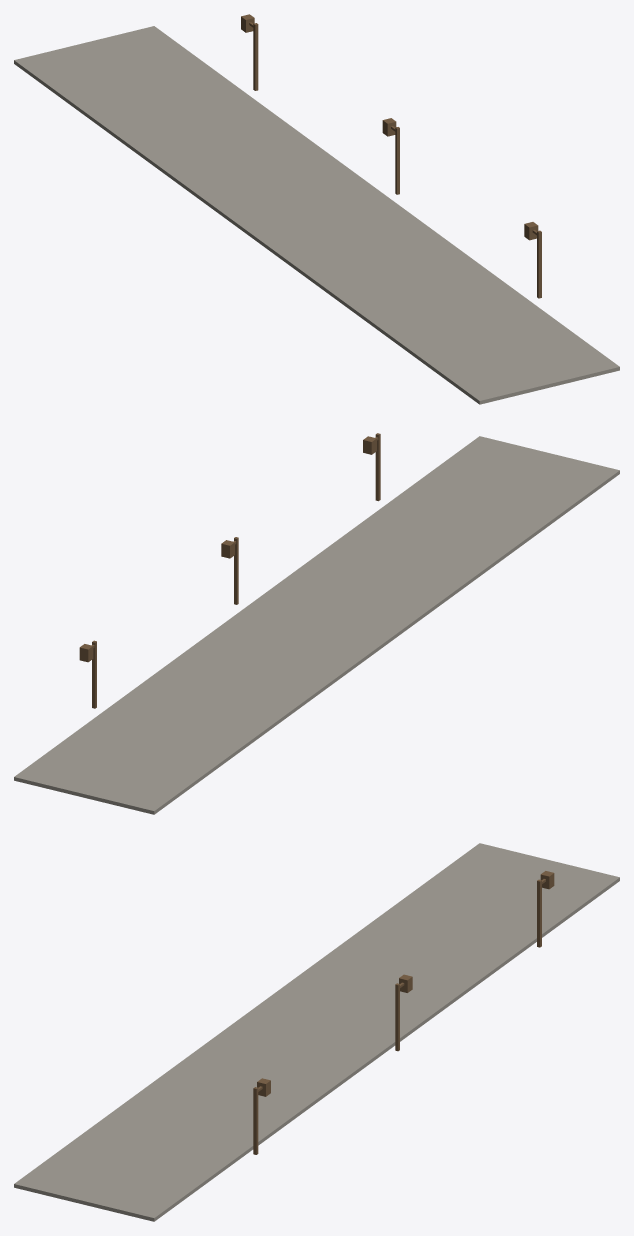
3 views of the same model, one above another, from view 1: azimuth 30°, elevation 25°; view 2: azimuth 150°, elevation 25°; view 3: azimuth 330°, elevation 25° (orthographic).
Parts seen in each view (by area): view 1: walk_strip; view 2: walk_strip; view 3: walk_strip.
Boxes of the visible parts, box(x1,y1,x2,y2) form: walk_strip: box(14, 26, 619, 404); walk_strip: box(14, 436, 619, 814); walk_strip: box(14, 843, 619, 1221).
Bounding box in the file's own units: 8.85 × 3.85 × 46.
